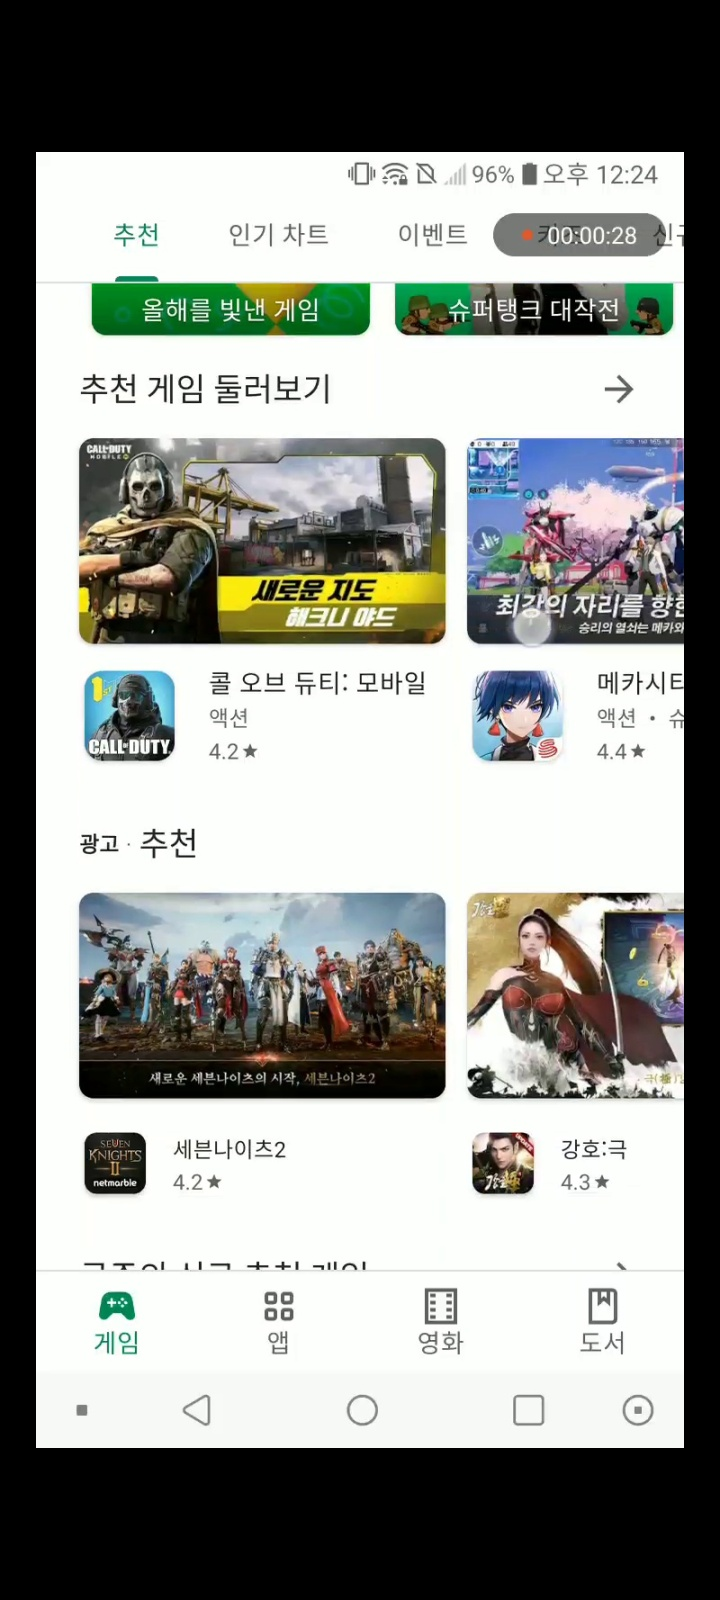Cursor: (511, 604, 556, 649)
